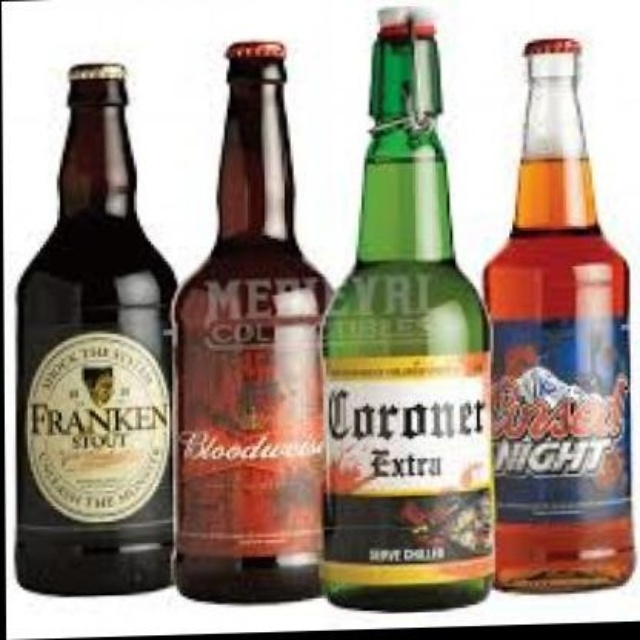trash: (323, 9, 491, 608), (175, 42, 328, 600), (15, 65, 174, 592), (485, 38, 632, 591)
